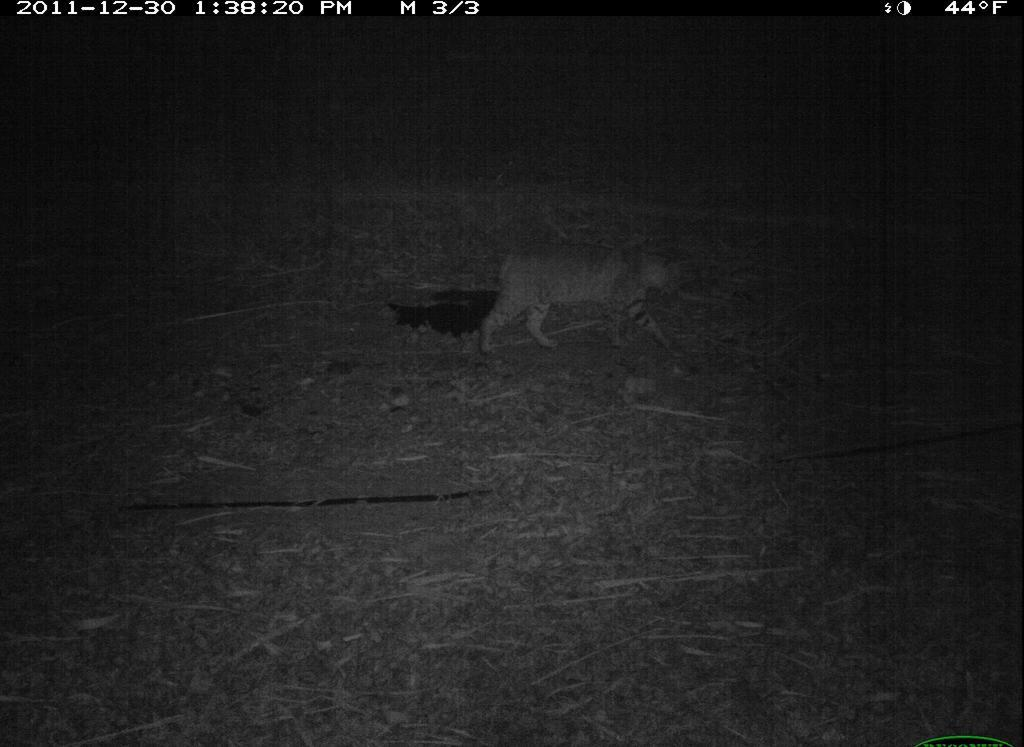bobcat: (455, 239, 711, 359)
